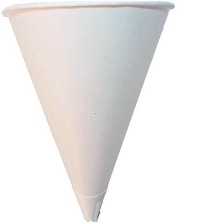paper_cup: (0, 0, 178, 224)
